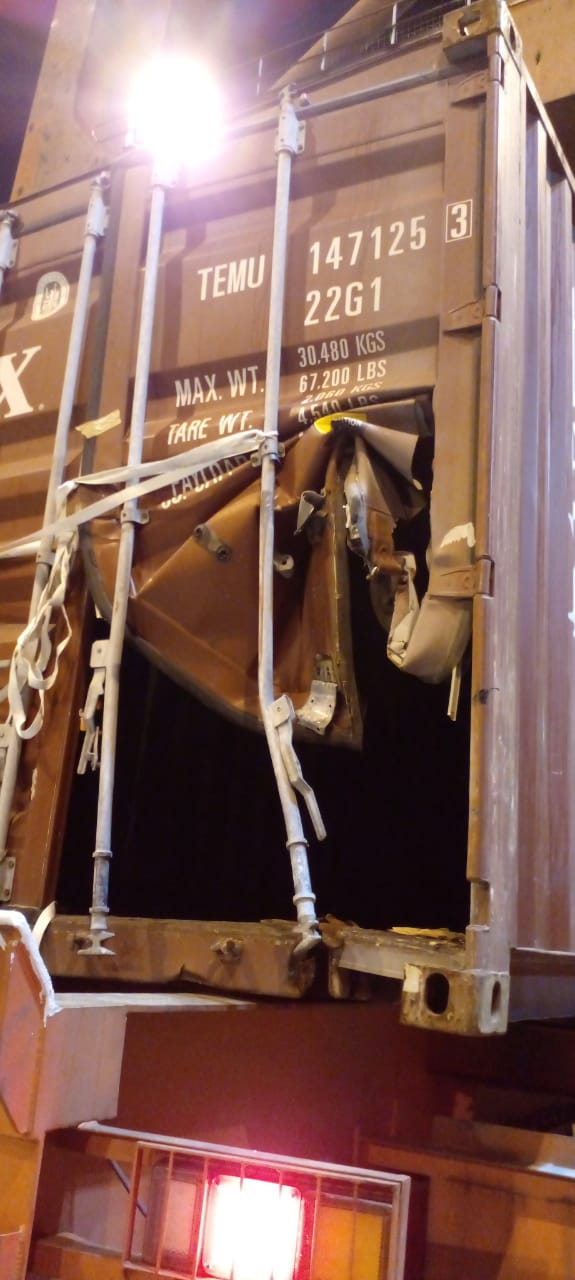severe: (21, 363, 469, 925)
